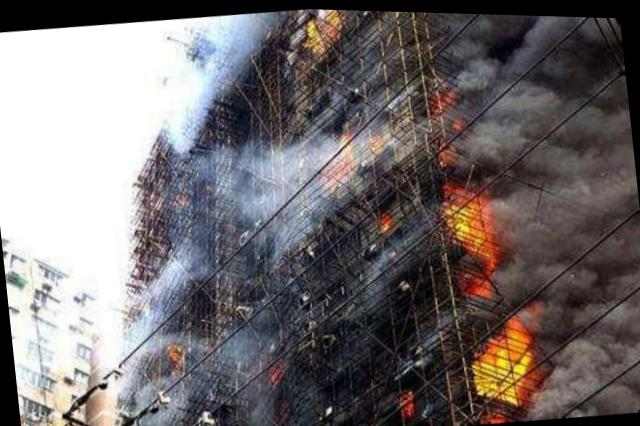fire: (442, 180, 487, 244), (470, 351, 516, 400), (487, 330, 525, 368), (302, 17, 323, 49), (466, 270, 492, 293), (502, 311, 524, 331), (378, 205, 390, 228)
